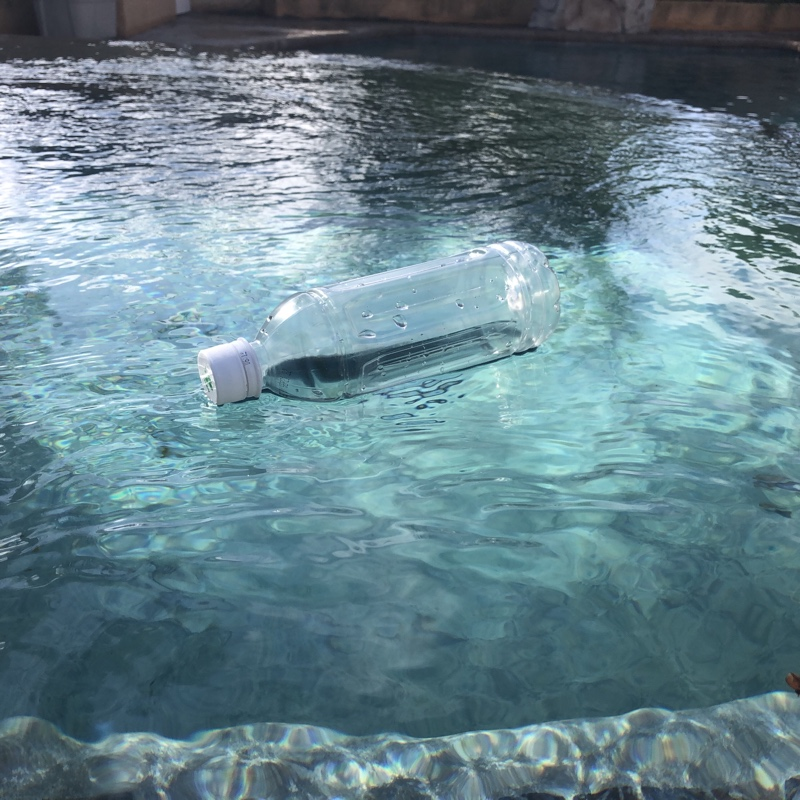Plastic Bottle: (194, 237, 563, 409)
